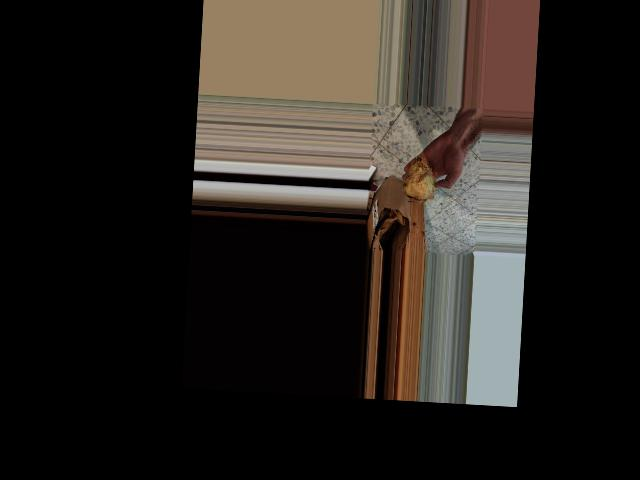onion: (401, 152, 438, 205)
